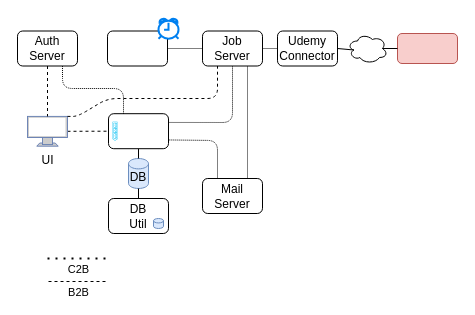
Image size: 475x315. Some labels were removed from this diagram. The centre of each missing label's shape, as x and y in pixels:
Entity Server: (138,131)
Schedule Server: (137,48)
Udemy: (427,48)
